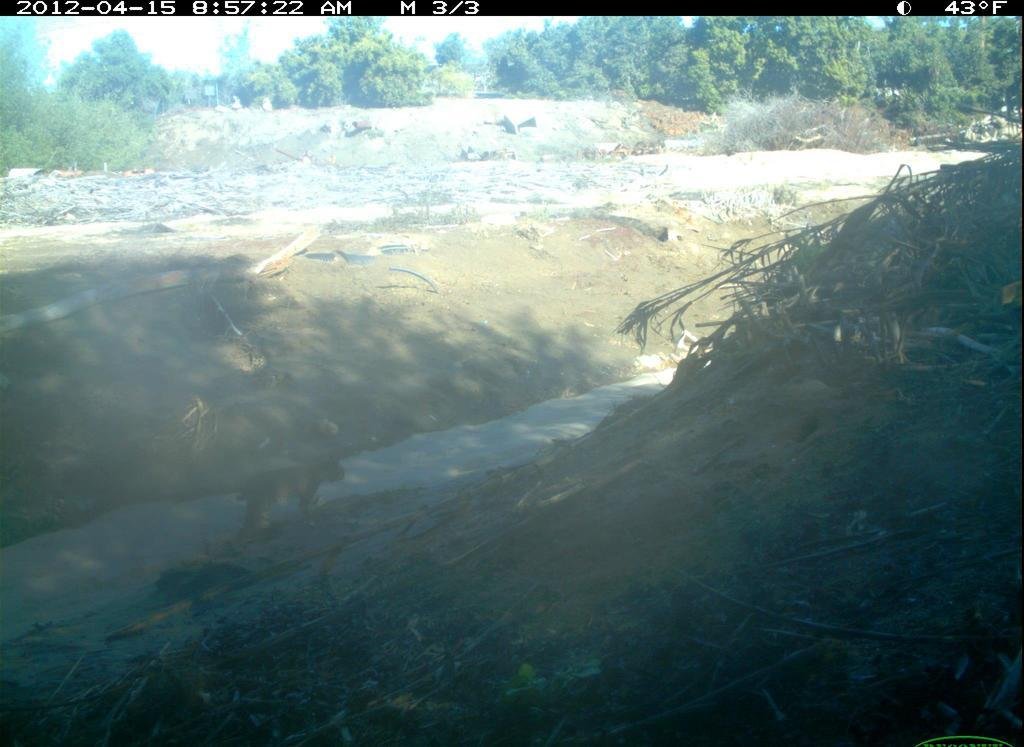bobcat: (210, 437, 362, 553)
